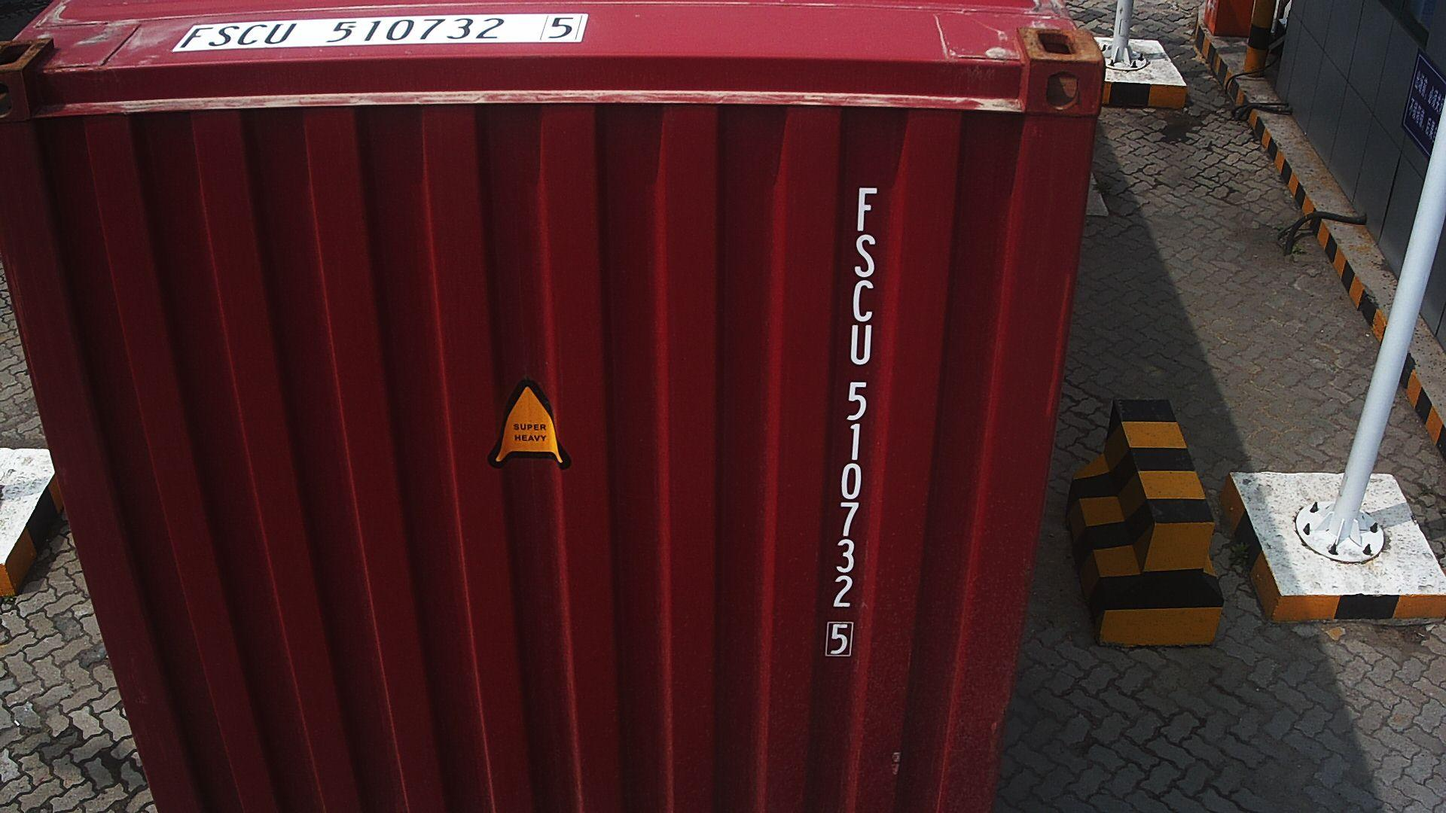container-numbers: (817, 180, 887, 662), (178, 11, 593, 49)
